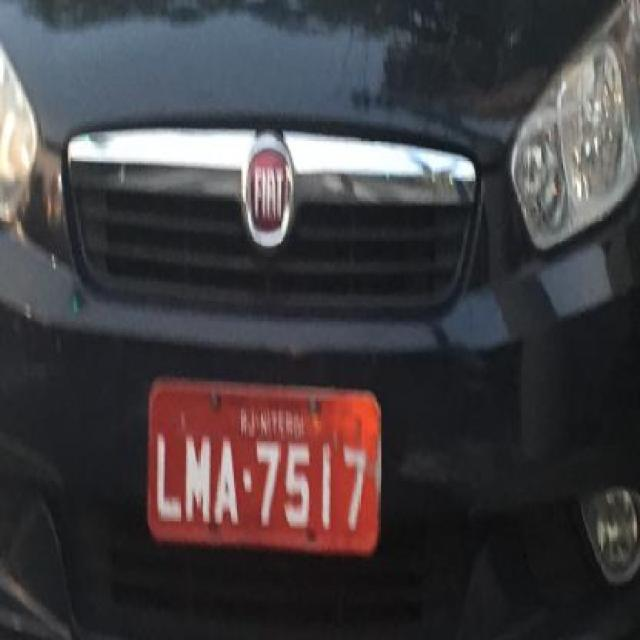old_plate: (140, 371, 391, 561)
